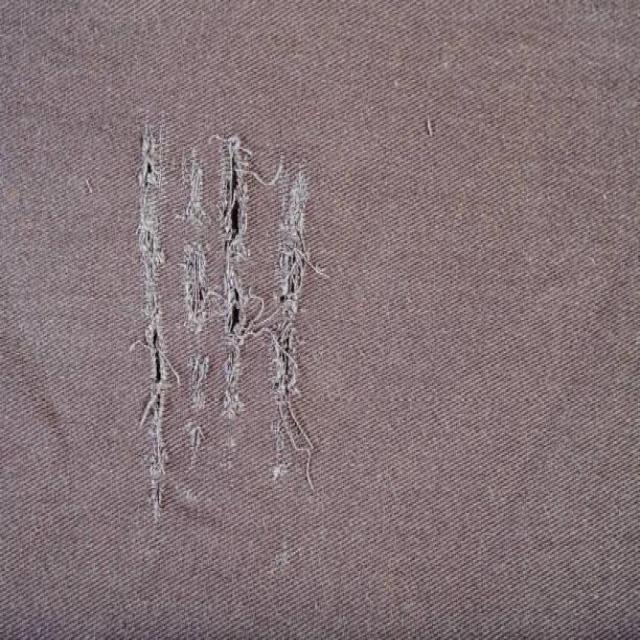Hole: (268, 160, 317, 492), (218, 135, 265, 453), (137, 124, 170, 520), (181, 147, 214, 471), (427, 115, 434, 136)
